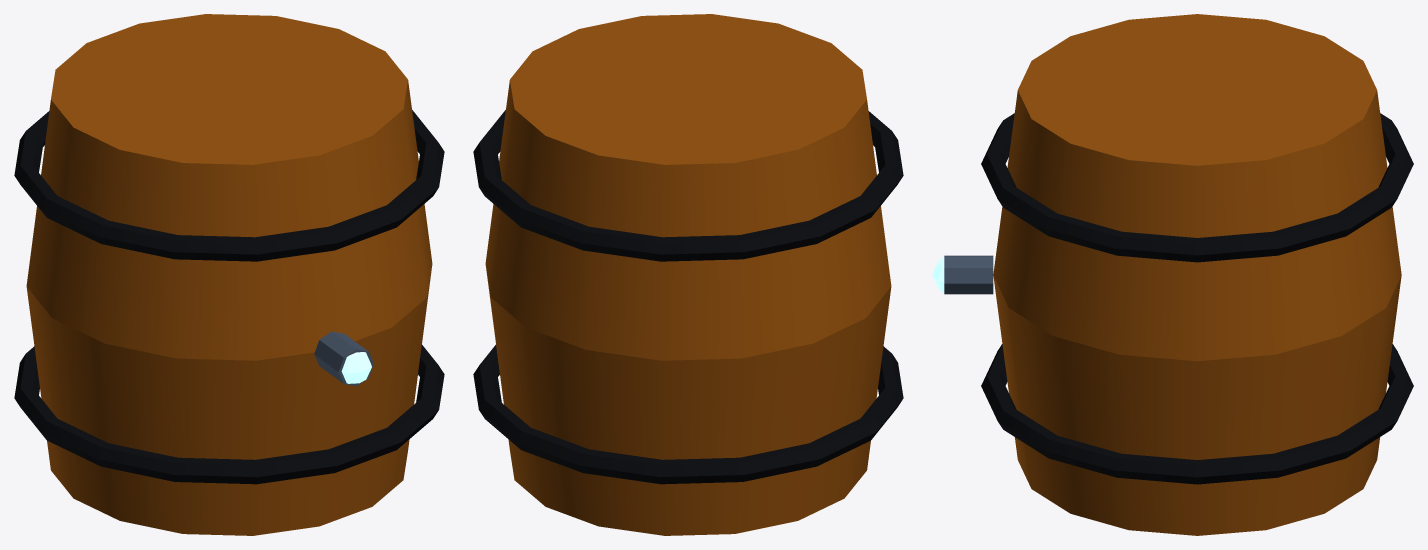
File: crate_base.glb
The picture shows the model from 3 angles, left to right: view 1: azimuth 30°, elevation 25°; view 2: azimuth 150°, elevation 25°; view 3: azimuth 270°, elevation 25°; orthographic projection.
Parts seen in each view (by area): view 1: crate_base; view 2: crate_base; view 3: crate_base.
Boxes of the visible parts, x1,y1,x2,y2 form: crate_base: (14,14,444,535); crate_base: (473,14,903,535); crate_base: (932,14,1413,535).
Bounding box in the file's own units: 1.06 × 1 × 1.18.
